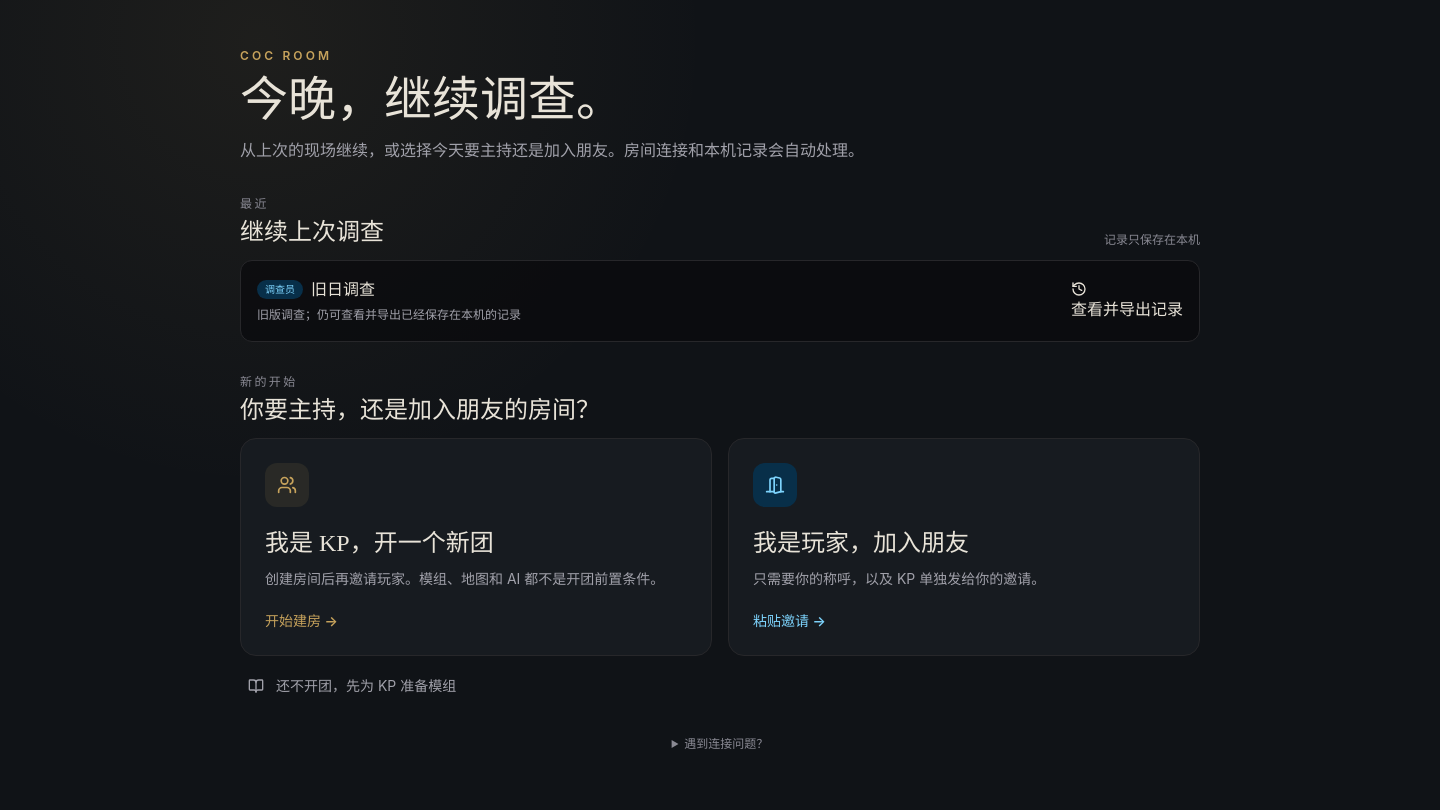
Test: LobbyView saved rooms › turns a room creation failure into a safe retry instead of a network error dump
The image size is (1440, 810).
Click the button "我是 KP，开一个新团 创建房间后再邀请玩家。模组、地图和 AI 都不是开团前置条件。 开始建房 →" at (476, 547), box [240, 438, 712, 656]
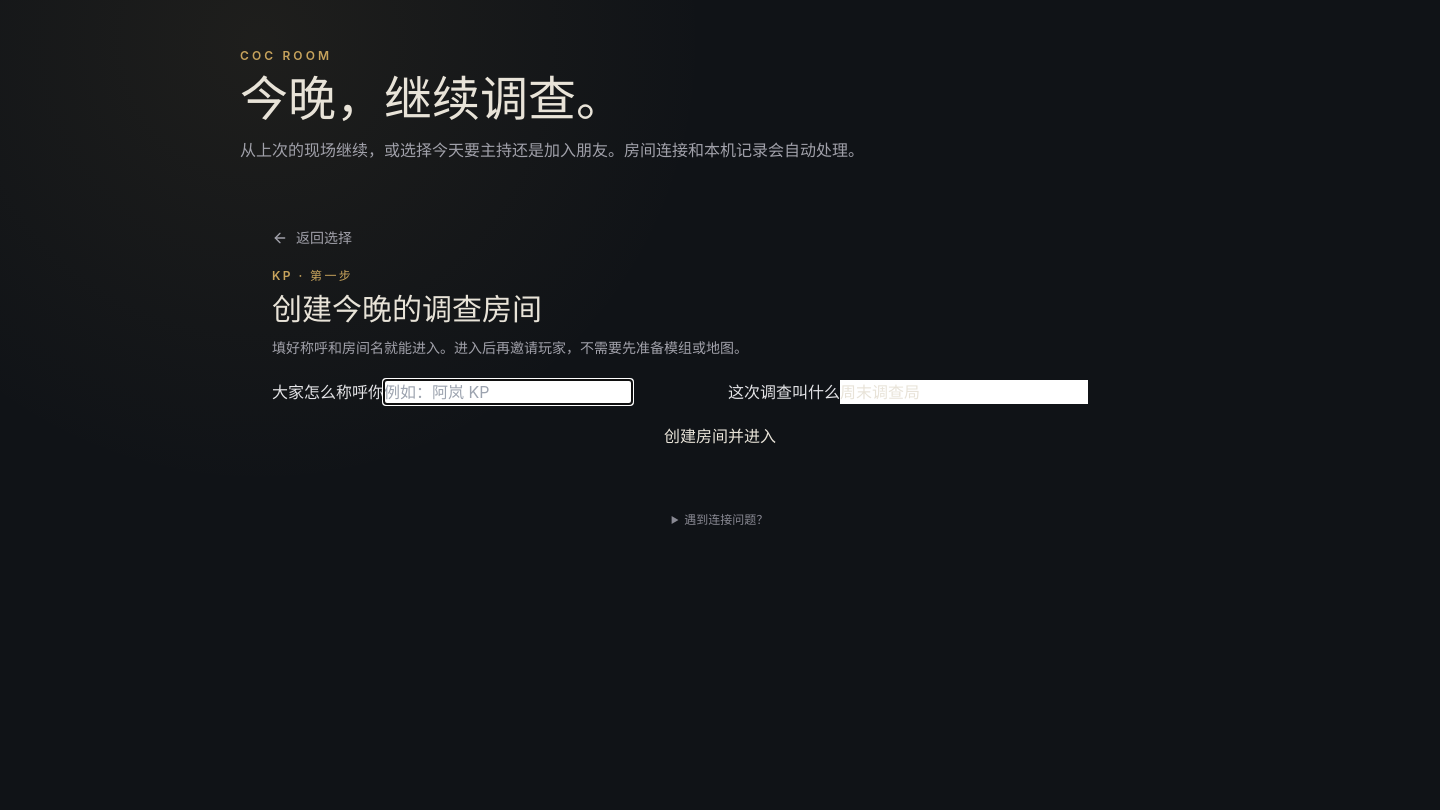
Type "守秘人" into the field named "你的称呼" at (508, 392), box [384, 380, 632, 404]
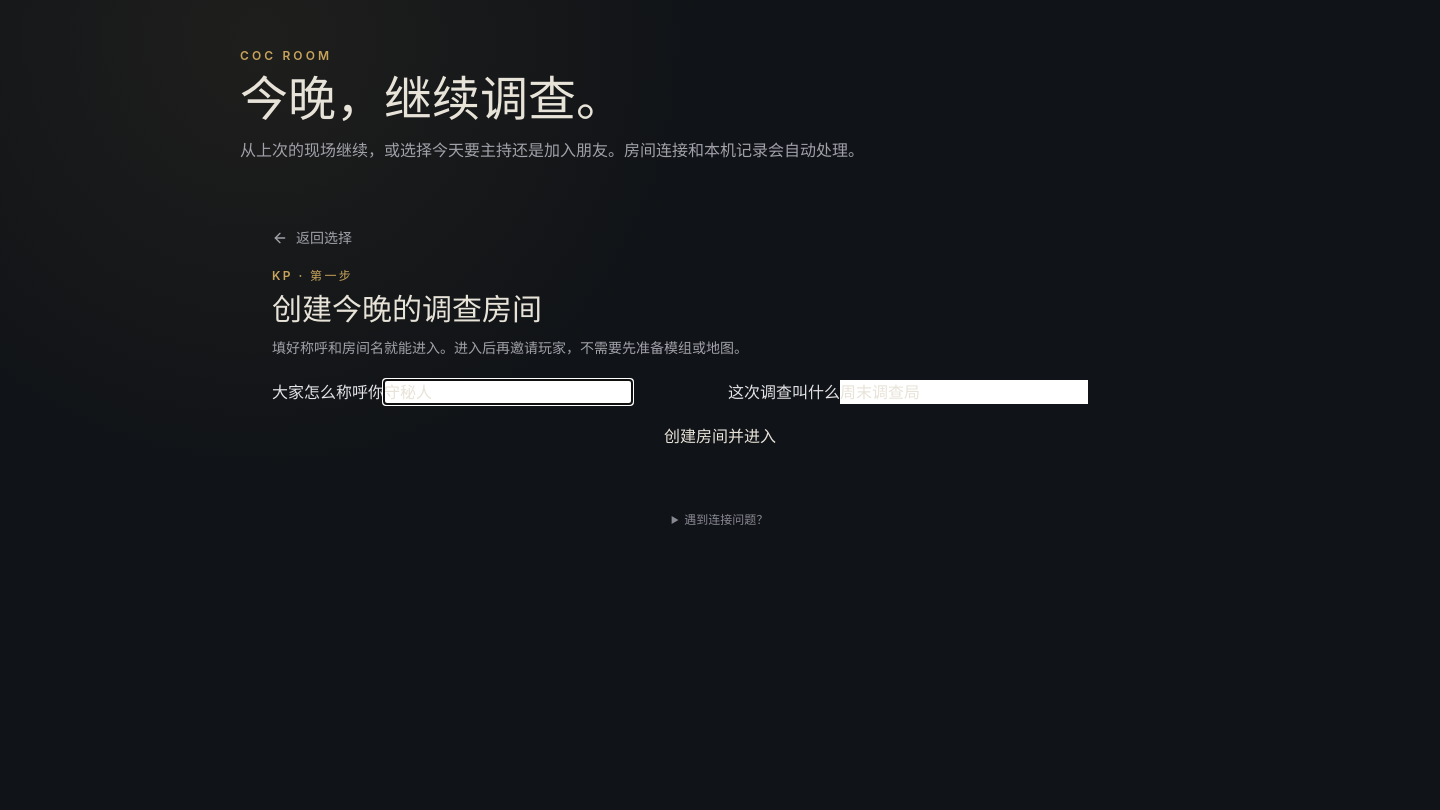
Click the button "创建房间并进入" at (720, 436), box [272, 424, 1168, 448]
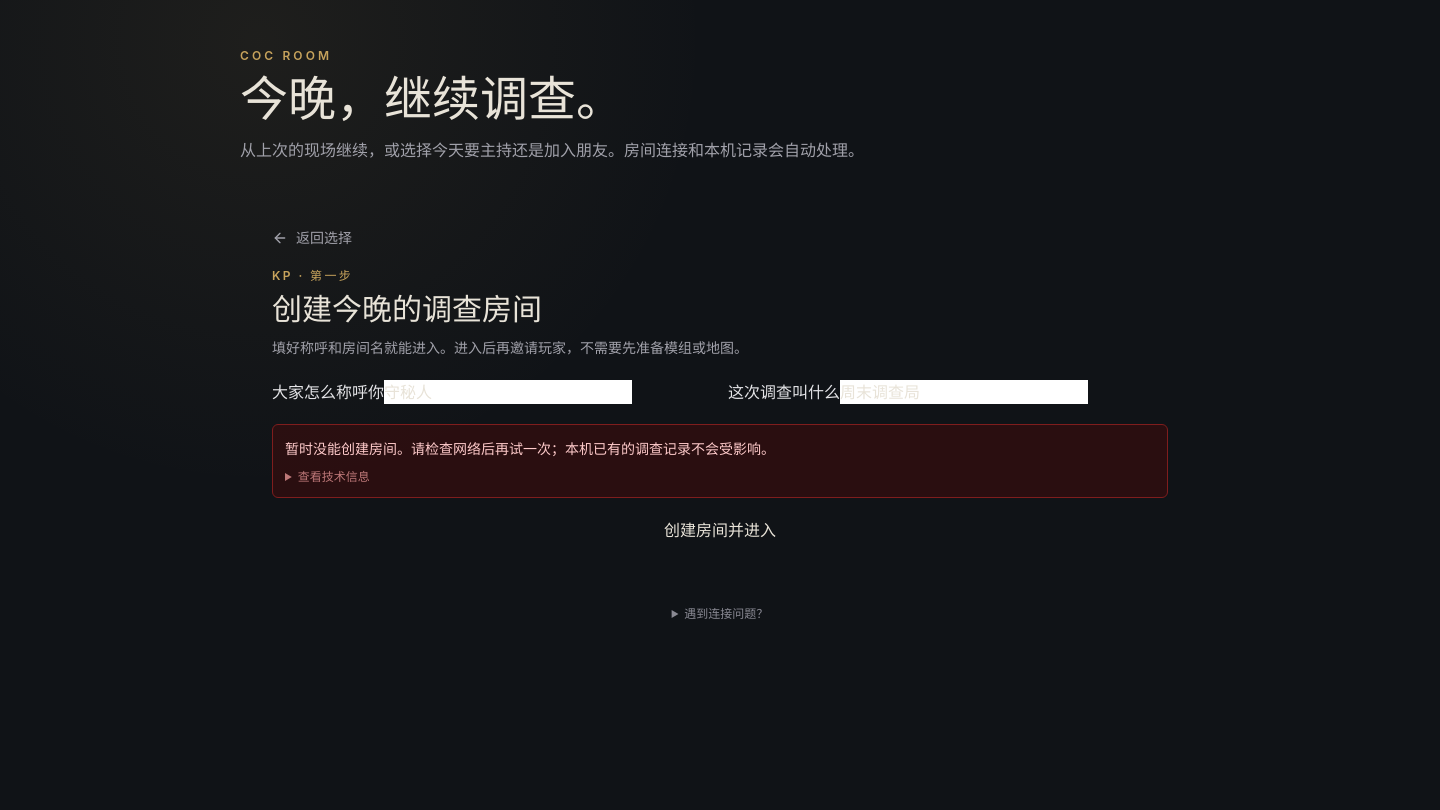
Expected: the button "创建房间并进入" is enabled, [272, 518, 1168, 542]
Expected: the text "暂时没能创建房间。请检查网络后再试一次；本机已有的调查记录不会受影响。" is shown, [285, 440, 775, 457]
